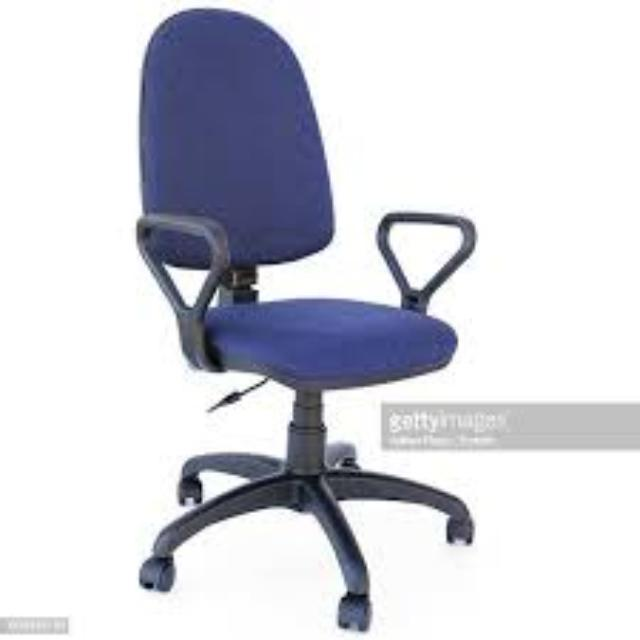obstacle: (94, 8, 516, 640)
